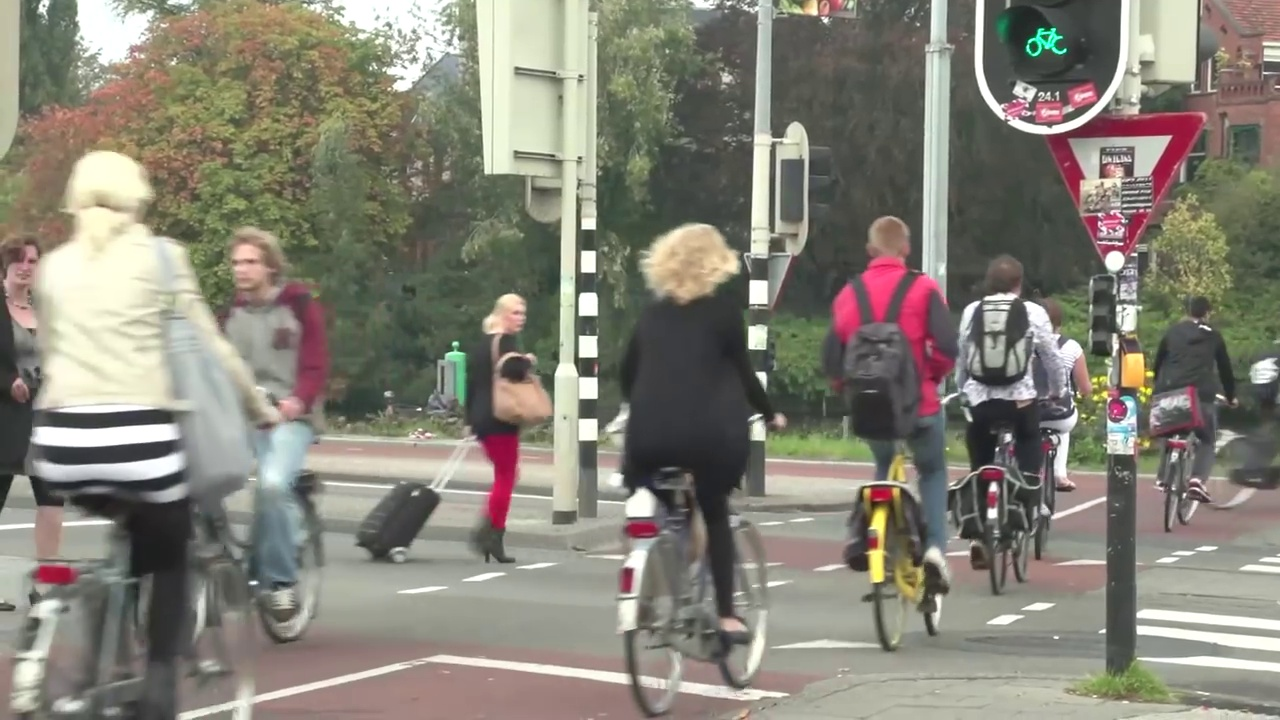cyclist_back: (19, 150, 261, 711), (618, 210, 780, 708), (825, 210, 973, 650), (956, 260, 1061, 598), (1148, 290, 1226, 537)
cyclist_front: (173, 202, 335, 643)
